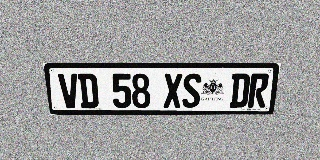5: (112, 73, 132, 108)
8: (131, 73, 150, 108)
D: (229, 73, 251, 108), (78, 73, 99, 108)
R: (247, 73, 270, 108)
S: (182, 73, 202, 108)
V: (58, 73, 80, 108)
X: (163, 73, 182, 108)
